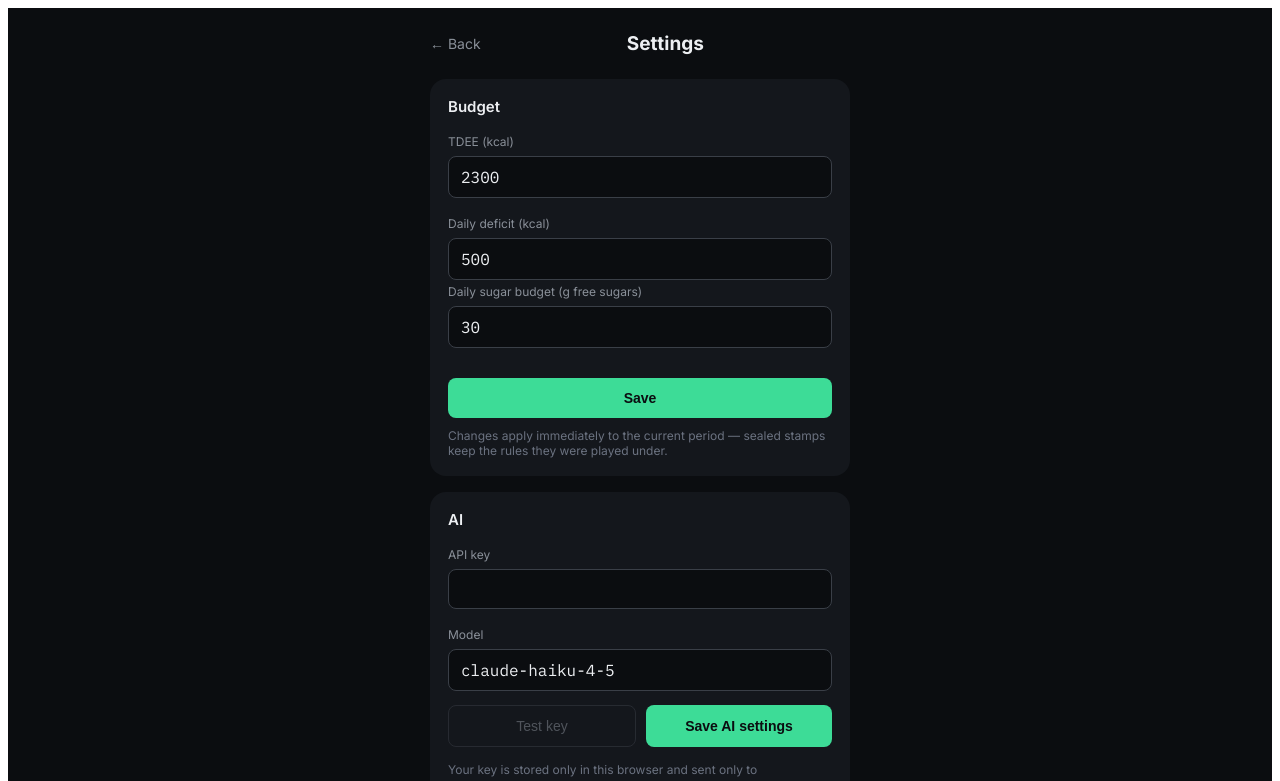
saves budget changes and tests API key
Replace the text in the number field labelled "Daily deficit (kcal)" with "300" at (640, 259), box [448, 238, 832, 280]
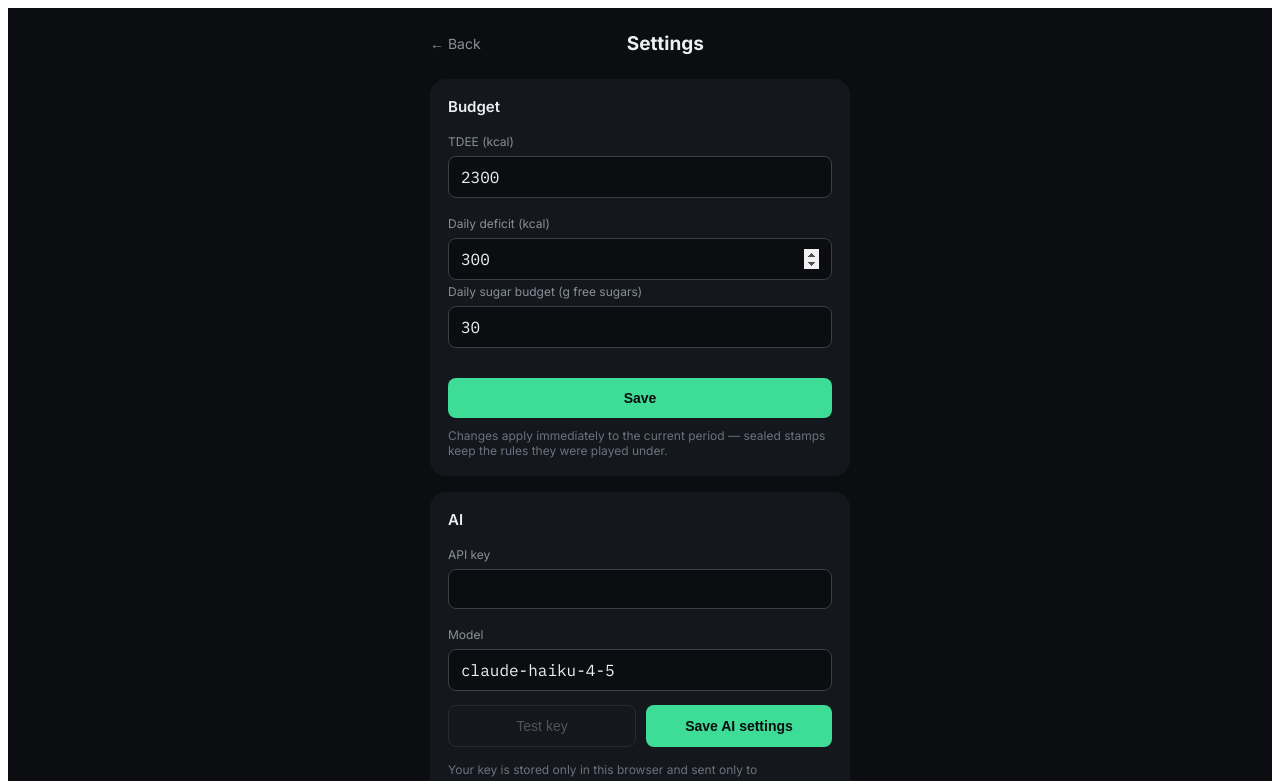
Click the button "Save" at (640, 398), box [448, 378, 832, 418]
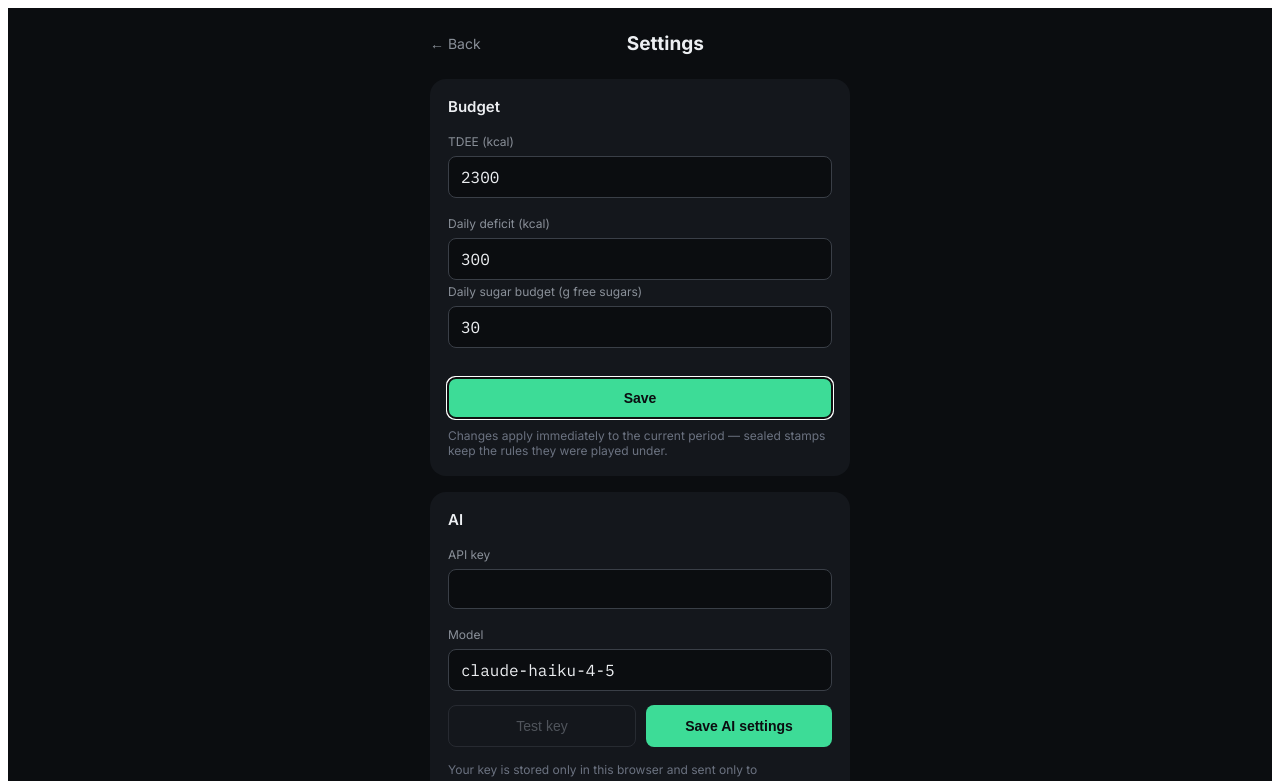
Type "sk-ant-x" into the password field labelled "API key" at (640, 589), box [448, 569, 832, 609]
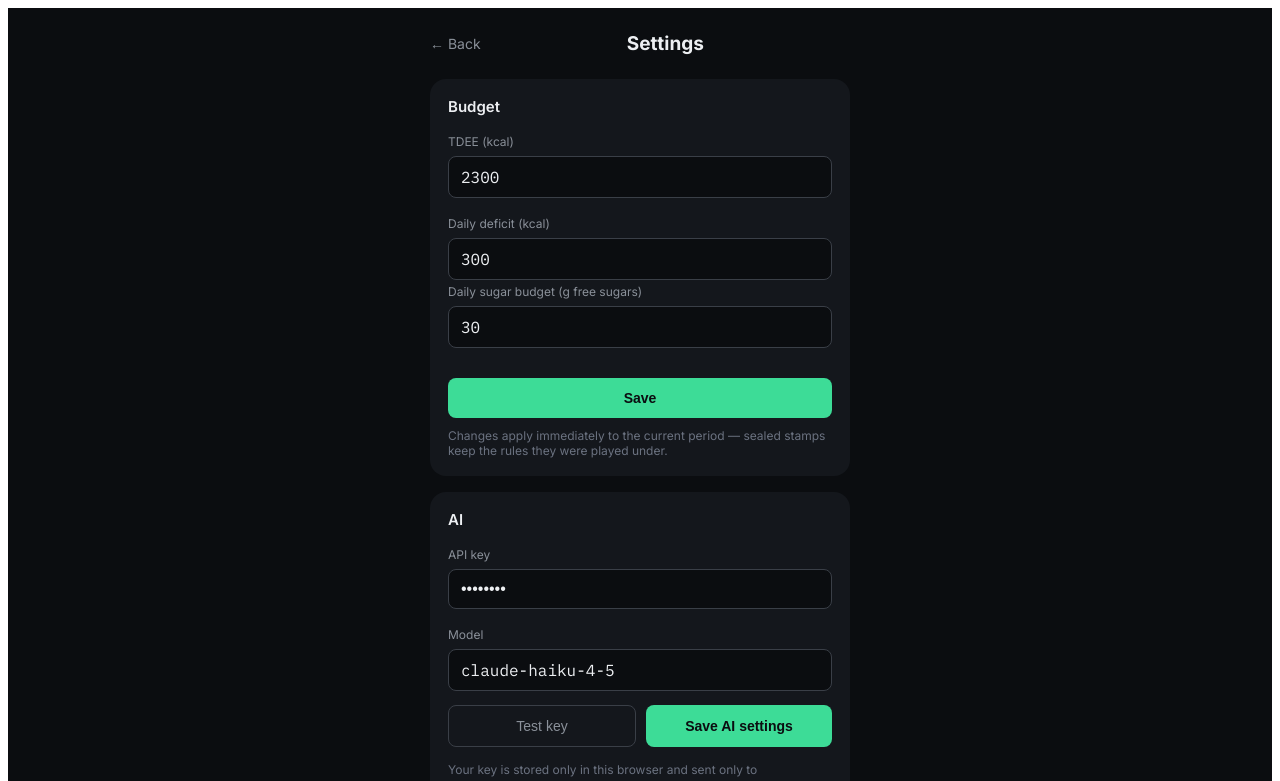
Click the button "Test key" at (542, 726), box [448, 705, 636, 747]
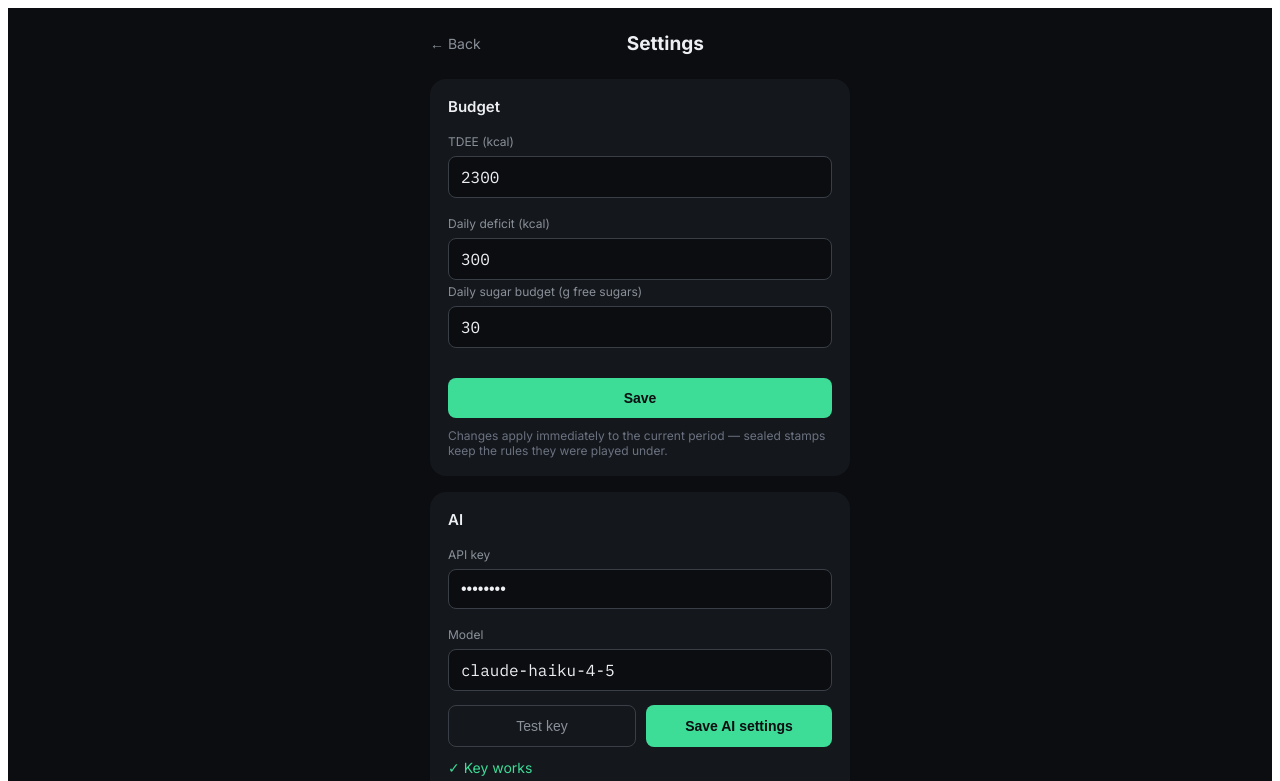
Result: the text "✓ Key works" is shown at [448, 759, 532, 776]
